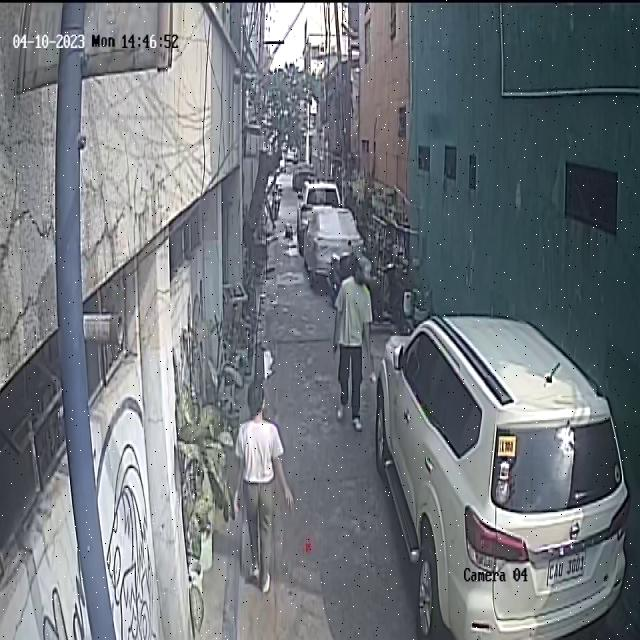human: (228, 376, 294, 594), (333, 256, 376, 430)
trash: (368, 366, 377, 384)
